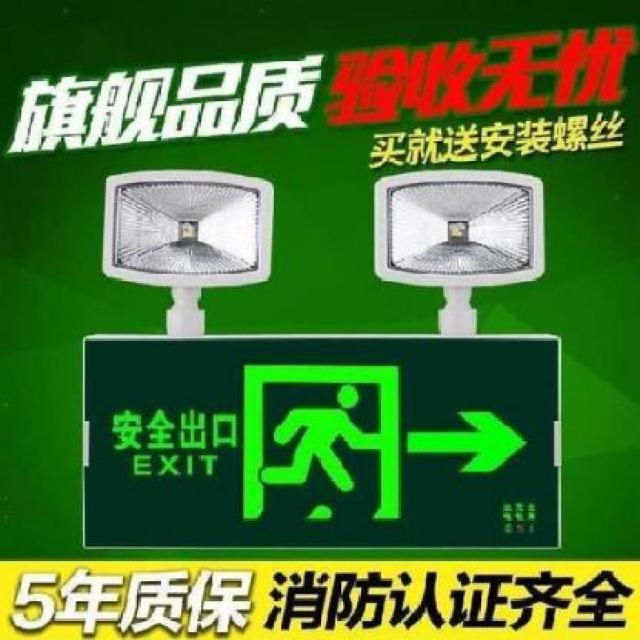exit_sign: (77, 332, 562, 556)
